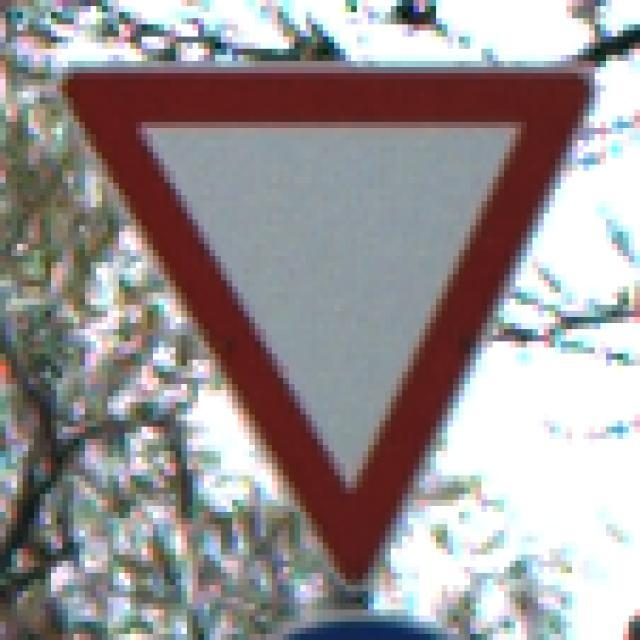give way: (59, 43, 610, 594)
